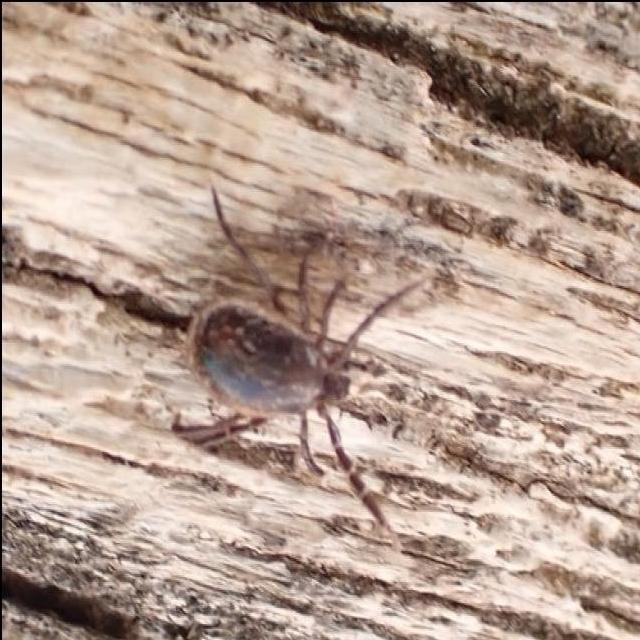Ixodes Ricinus-M: (169, 188, 416, 526)
